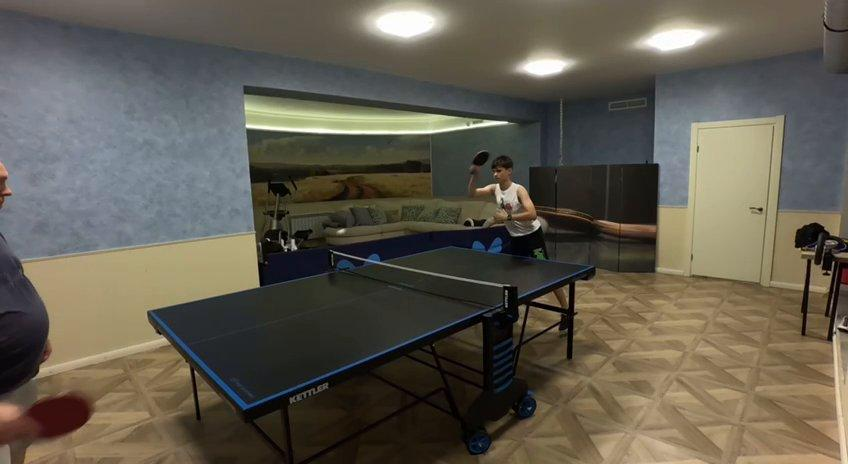Ball: (335, 228, 349, 236)
Net: (329, 250, 518, 323)
Player1: (469, 151, 547, 258)
Player2: (0, 233, 51, 412), (0, 431, 33, 463)
Table: (147, 247, 597, 419)
